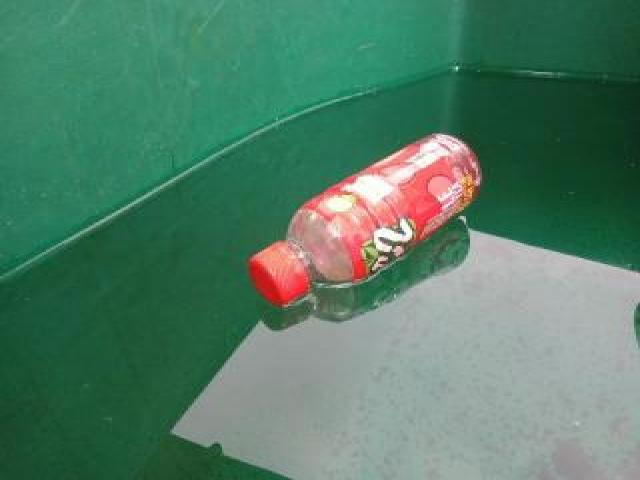Bottle: (243, 130, 486, 307)
